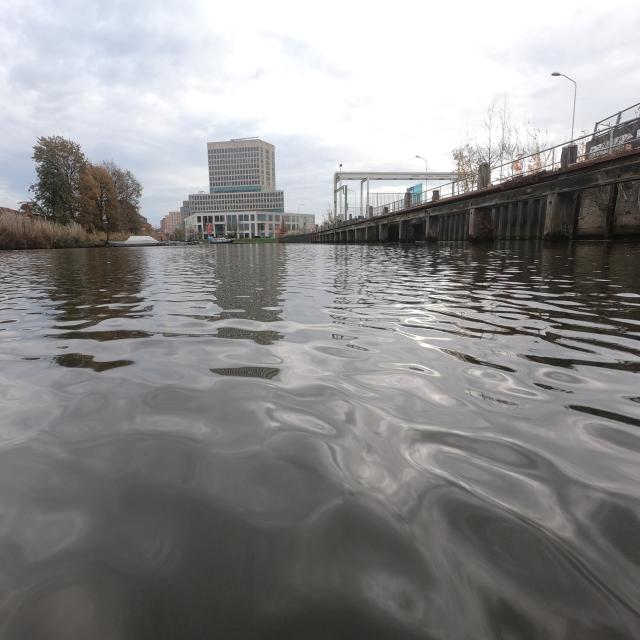boat: (109, 236, 158, 246)
reed: (0, 208, 102, 249)
tree: (29, 136, 142, 235)
wall: (284, 146, 638, 240)
water: (0, 242, 640, 640)
